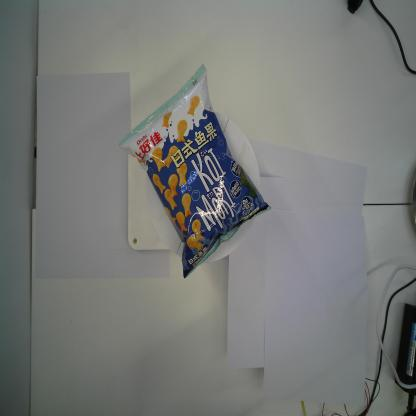Puffed Food: (117, 62, 272, 280)
